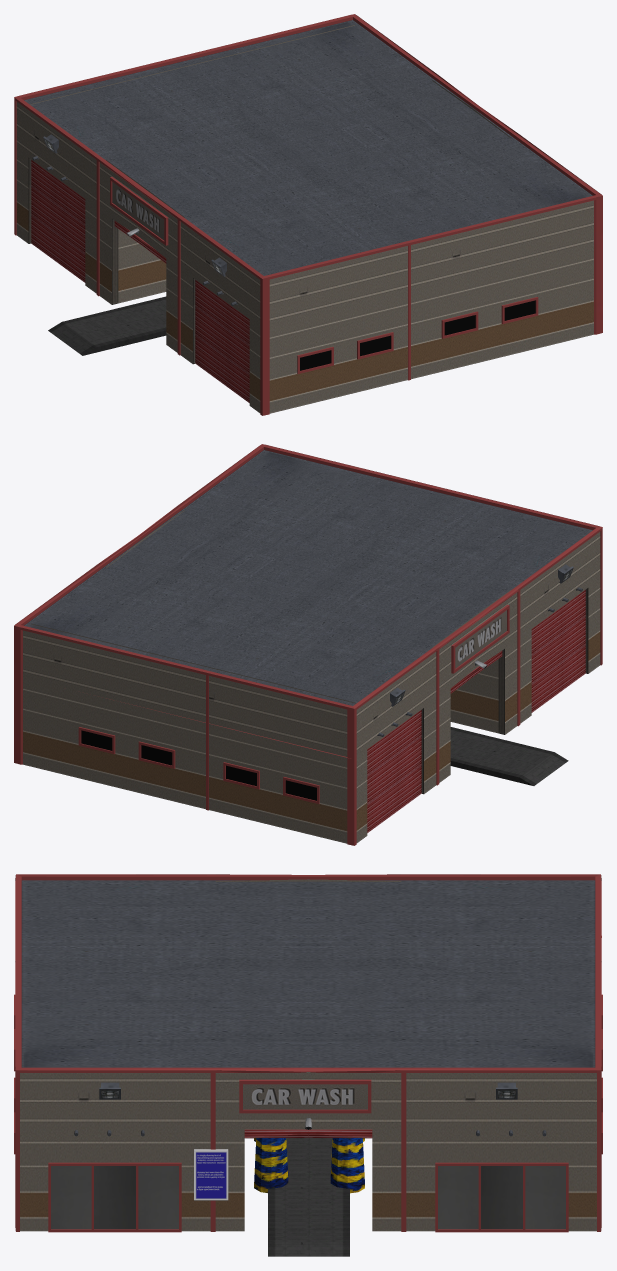
The model's file is Service Station.fbx.
The picture shows the model from 3 angles, top to bottom: view 1: azimuth 30°, elevation 25°; view 2: azimuth 150°, elevation 25°; view 3: azimuth 270°, elevation 25°; orthographic projection. The views are drawn at different scales.
Visible parts, largest first — view 1: Car Wash, Belt; view 2: Car Wash, Belt; view 3: Car Wash, Belt, Dryer 4, Dryer1.
Part boxes in pixels (box(x1,y1,x2,y2)): Car Wash: box(14, 14, 602, 415); Belt: box(48, 296, 166, 355); Car Wash: box(14, 444, 602, 845); Belt: box(450, 727, 568, 785); Car Wash: box(14, 874, 602, 1232); Belt: box(268, 1137, 349, 1256); Dryer 4: box(330, 1138, 364, 1193); Dryer1: box(254, 1138, 288, 1192).
Bounding box in the file's own units: 1773 × 524 × 1683.
Materials: 1 (1 with a texture image).
